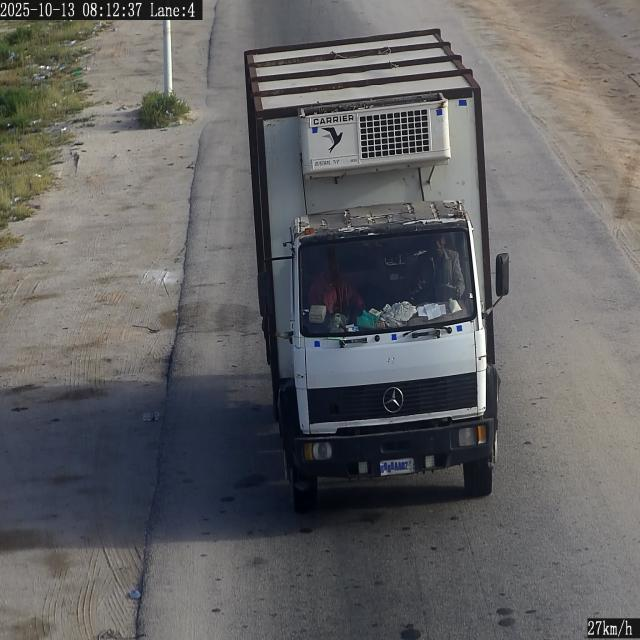BUS: (380, 458, 414, 475)
